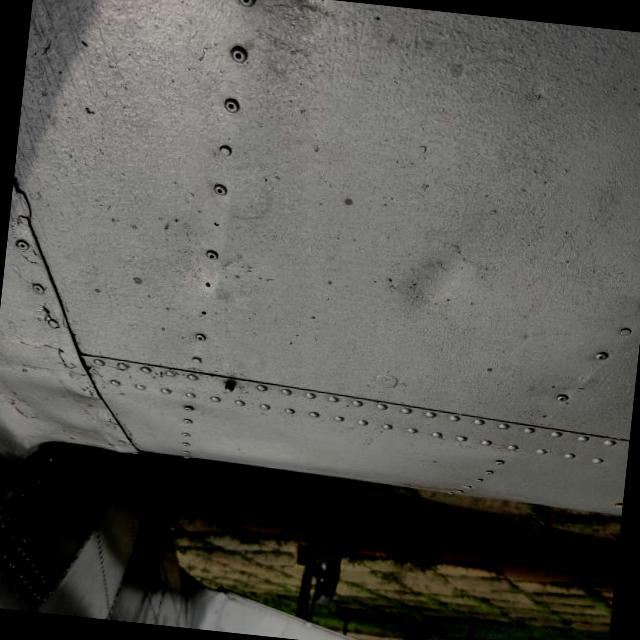dent: (360, 220, 506, 357)
